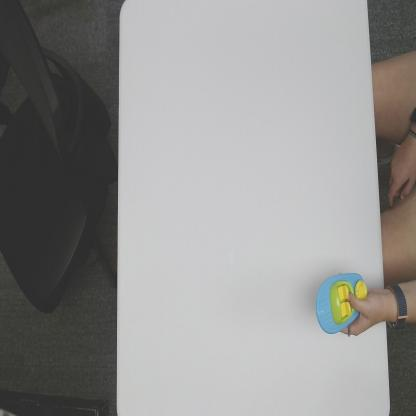Boat: (315, 270, 368, 335)
Hand: (341, 288, 385, 338)
